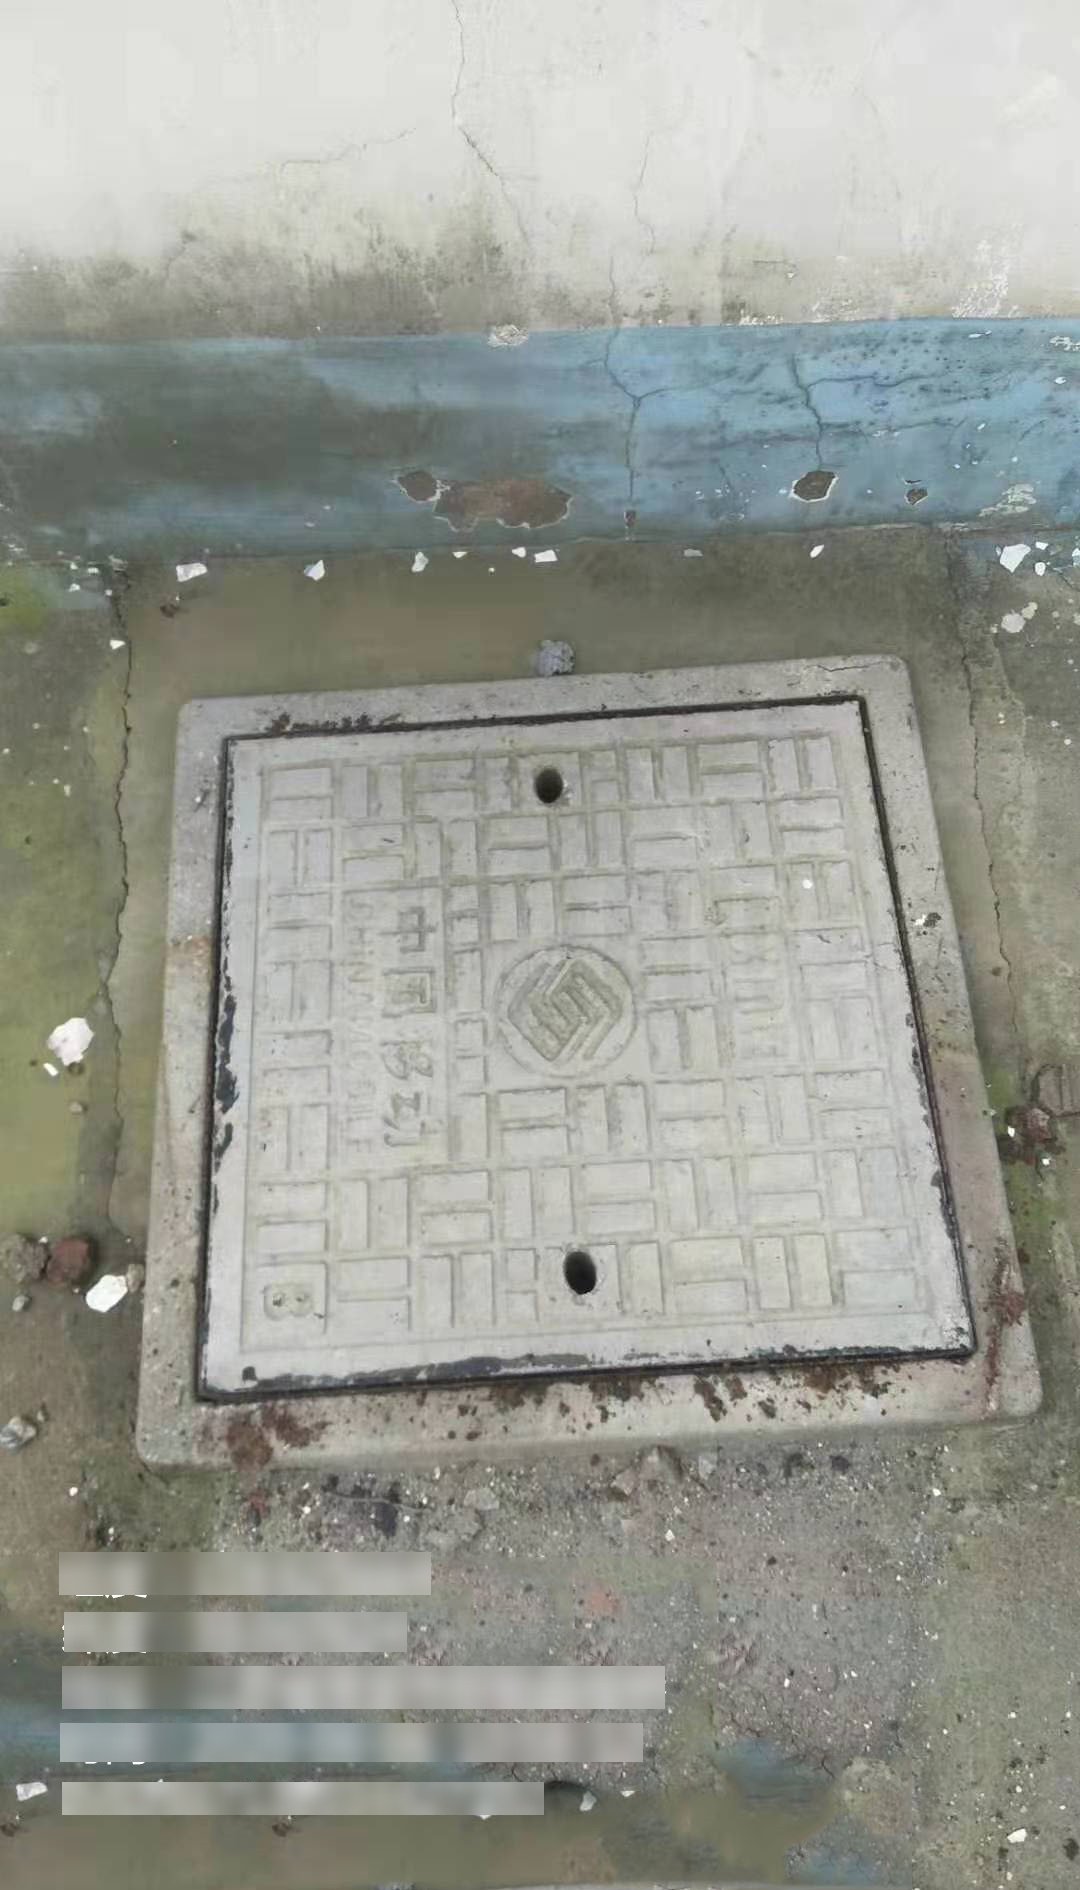good: (132, 646, 1040, 1462)
